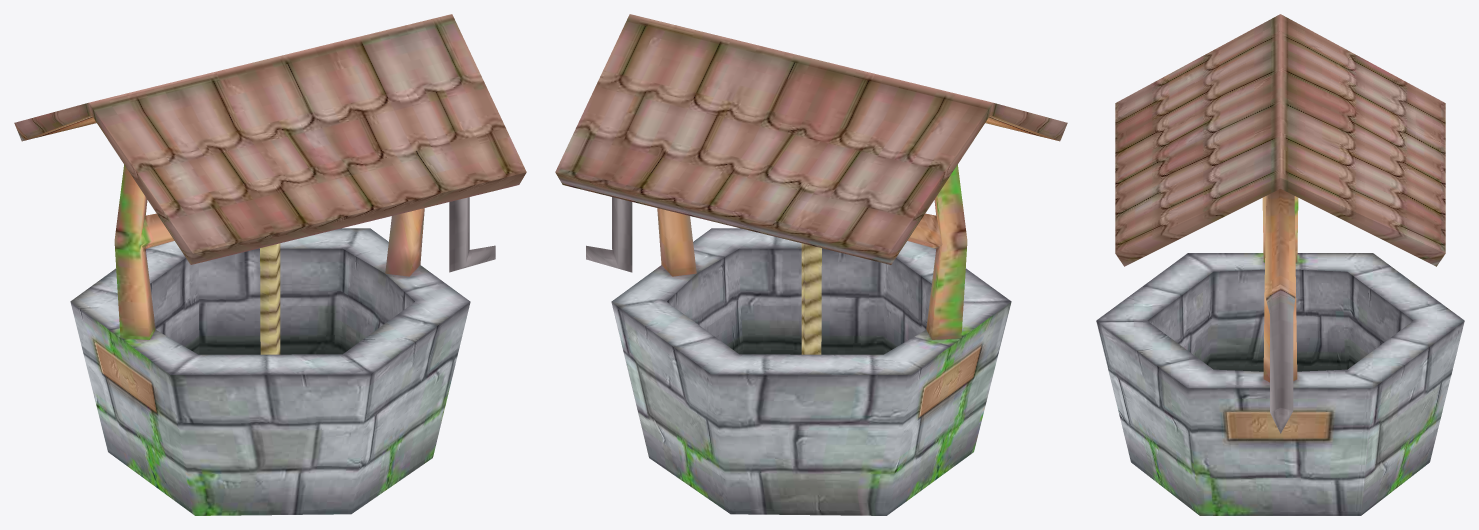
Rendered from Spring1.gltf.
3 views of the same model, side by side, from view 1: azimuth 30°, elevation 25°; view 2: azimuth 150°, elevation 25°; view 3: azimuth 270°, elevation 25° (orthographic). The views are drawn at different scales.
Visible parts, largest first — view 1: well; view 2: well; view 3: well.
Boxes of the visible parts, left/top/right/bottom form: well: left=14, top=14, right=526, bottom=515; well: left=555, top=14, right=1067, bottom=515; well: left=1096, top=14, right=1464, bottom=515.
Bounding box in the file's own units: 3.93 × 3.66 × 3.34.
1 material, 1 textured.
